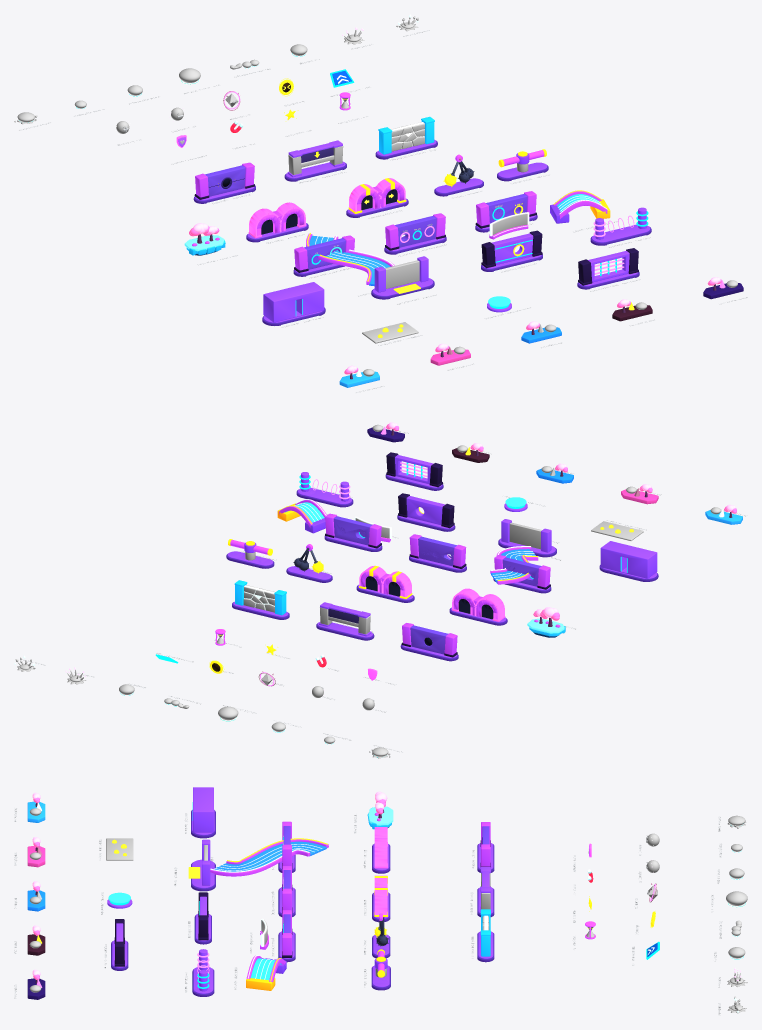
Rendered from ProjectJelly_Kit.fbx.
The picture shows the model from 3 angles, top to bottom: view 1: azimuth 30°, elevation 25°; view 2: azimuth 150°, elevation 25°; view 3: azimuth 270°, elevation 25°; orthographic projection. The views are drawn at different scales.
Parts seen in each view (by area): view 1: Flex_Wall, MH_Split_Wall, SlideHole_Wall, Narrow_Wall, Path_RoadDeck, Scale_Door, MH_Risk_Wall, MH_Size_Wall, Sticky_Pad; view 2: Flex_Wall, MH_Split_Wall, MH_Risk_Wall, SlideHole_Wall, Narrow_Wall, Scale_Door, MH_Size_Wall; view 3: Path_RoadDeck, Flex_Wall, Sticky_Pad, Path_SideCurb_-1, Bridge_ArchedDeck.
Part boxes in pixels (x1,y1,x2,y2): Flex_Wall: [263, 282, 324, 322]; MH_Split_Wall: [395, 215, 436, 247]; SlideHole_Wall: [491, 233, 533, 264]; Narrow_Wall: [205, 165, 245, 196]; Path_RoadDeck: [309, 235, 390, 286]; Scale_Door: [385, 260, 419, 288]; MH_Risk_Wall: [486, 194, 527, 223]; MH_Size_Wall: [304, 238, 345, 269]; Sticky_Pad: [362, 322, 418, 343]; Flex_Wall: [600, 541, 657, 578]; MH_Split_Wall: [418, 536, 456, 566]; MH_Risk_Wall: [333, 516, 372, 545]; SlideHole_Wall: [406, 496, 445, 524]; Narrow_Wall: [410, 625, 448, 654]; Scale_Door: [509, 522, 541, 549]; MH_Size_Wall: [502, 557, 541, 586]; Path_RoadDeck: [215, 841, 326, 871]; Flex_Wall: [193, 787, 213, 832]; Sticky_Pad: [106, 838, 133, 860]; Path_SideCurb_-1: [210, 850, 310, 876]; Bridge_ArchedDeck: [250, 958, 281, 980].
Size of the model in its own units: 47.52 by 3.63 by 70.17.
